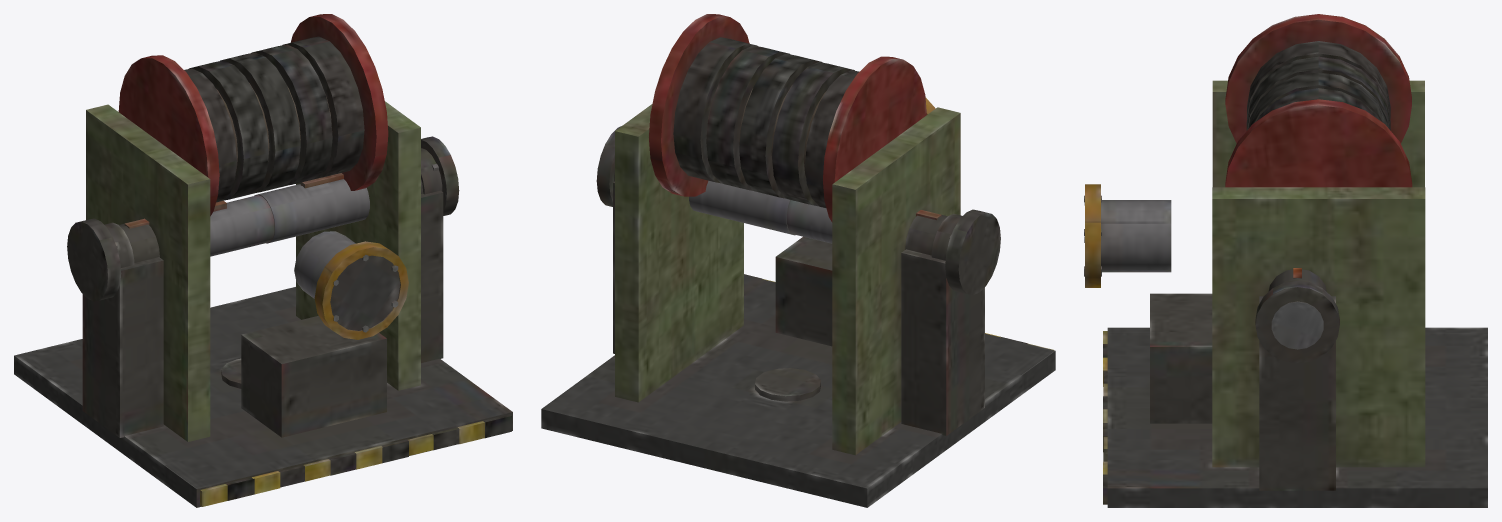
The model's file is feHosePulley.glb.
The picture shows the model from 3 angles, left to right: view 1: azimuth 30°, elevation 25°; view 2: azimuth 150°, elevation 25°; view 3: azimuth 270°, elevation 25°; orthographic projection. The views are drawn at different scales.
Visible parts, largest first — view 1: feHosePulley_Base, FeSpin_x0.3_Reel, FeSpin_DriveShaft; view 2: feHosePulley_Base, FeSpin_x0.3_Reel, FeSpin_DriveShaft; view 3: feHosePulley_Base, FeSpin_x0.3_Reel, FeSpin_DriveShaft.
Boxes of the visible parts, x1=… form: feHosePulley_Base: x1=14, y1=101, x2=512, y2=507; FeSpin_x0.3_Reel: x1=118, y1=14, x2=388, y2=216; FeSpin_DriveShaft: x1=67, y1=136, x2=459, y2=301; feHosePulley_Base: x1=541, y1=98, x2=1055, y2=507; FeSpin_x0.3_Reel: x1=649, y1=14, x2=926, y2=222; FeSpin_DriveShaft: x1=596, y1=126, x2=1000, y2=294; feHosePulley_Base: x1=1084, y1=80, x2=1487, y2=507; FeSpin_x0.3_Reel: x1=1225, y1=14, x2=1412, y2=187; FeSpin_DriveShaft: x1=1255, y1=268, x2=1339, y2=363.
Bounding box in the file's own units: 1 × 0.9624 × 0.9566.
1 material, 1 textured.
